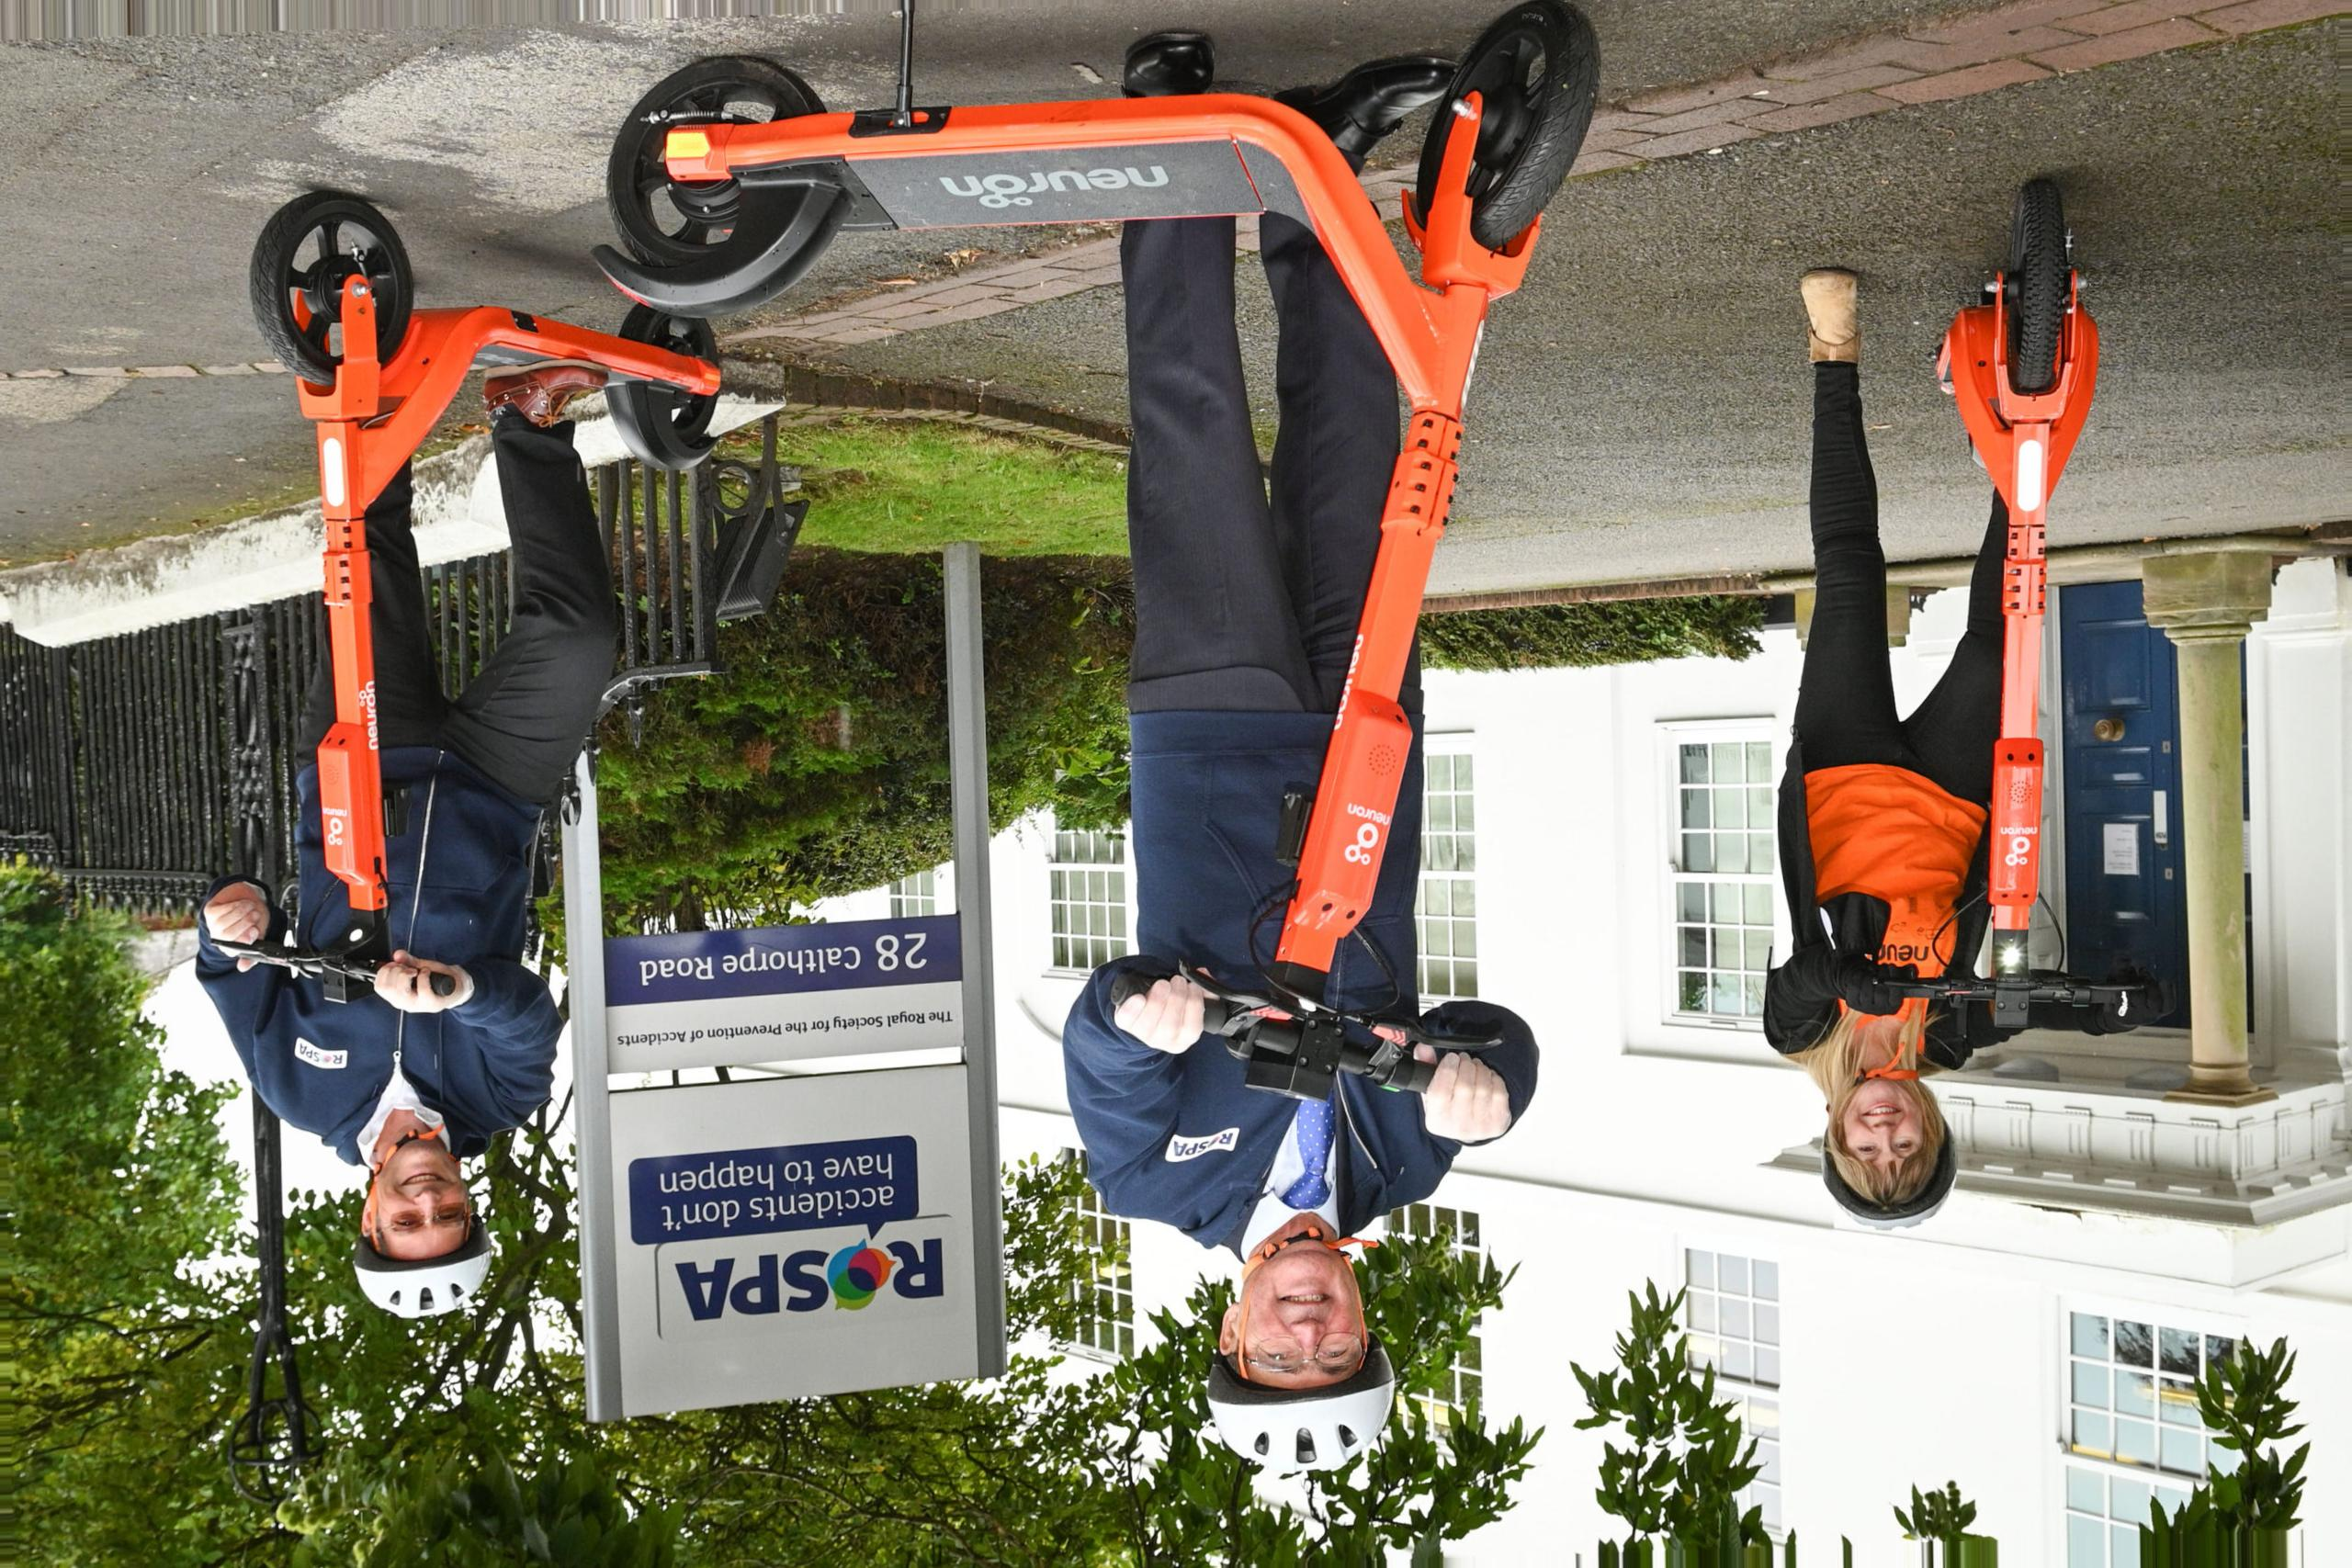scooter: (581, 2, 1610, 1101), (212, 191, 726, 1006), (1874, 178, 2175, 1034)
with helmet: (1199, 1242, 1398, 1479), (345, 1134, 499, 1328), (1815, 1066, 1962, 1237)
